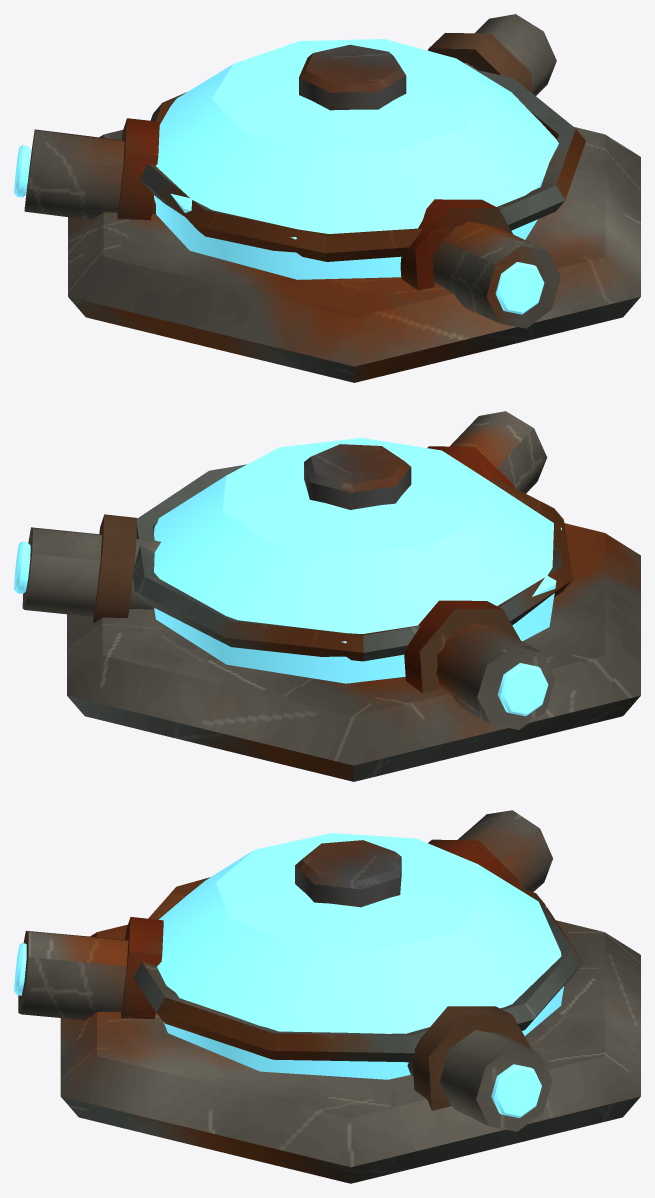
The model's file is R4D_SlowTrap.glb.
3 renders of one model, top to bottom at view 1: azimuth 30°, elevation 25°; view 2: azimuth 150°, elevation 25°; view 3: azimuth 270°, elevation 25°, orthographic.
Visible parts, largest first — view 1: R4D_SlowTrap_Body; view 2: R4D_SlowTrap_Body; view 3: R4D_SlowTrap_Body.
Part boxes in pixels (left/top/right/bottom): R4D_SlowTrap_Body: left=14, top=14, right=640, bottom=382; R4D_SlowTrap_Body: left=14, top=411, right=640, bottom=781; R4D_SlowTrap_Body: left=14, top=810, right=640, bottom=1183.
Size of the model in its own units: 0.48 by 0.15 by 0.4491.
Materials: 5 (4 with a texture image).
